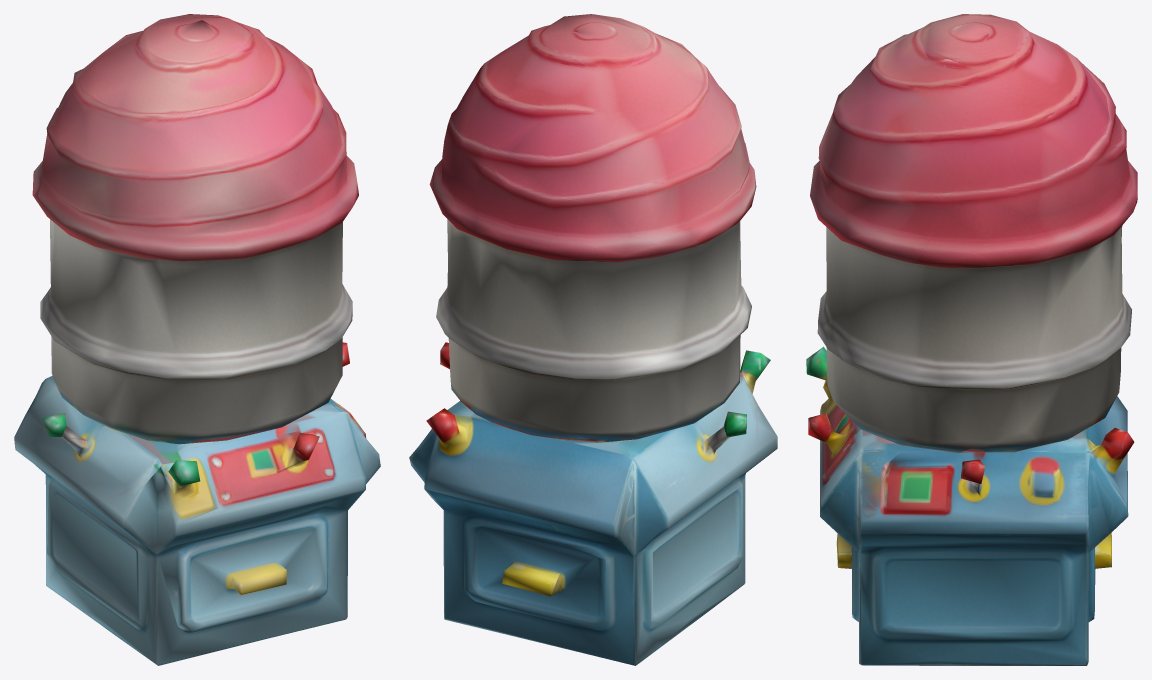
Rendered from Candy.fbx.
3 views of the same model, side by side, from view 1: azimuth 30°, elevation 25°; view 2: azimuth 150°, elevation 25°; view 3: azimuth 270°, elevation 25° (orthographic). The views are drawn at different scales.
Visible parts, largest first — view 1: material_0; view 2: material_0; view 3: material_0.
Boxes of the visible parts, box(x1,y1,x2,y2) form: material_0: box(14, 14, 380, 665); material_0: box(409, 14, 777, 665); material_0: box(806, 14, 1137, 665).
Bounding box in the file's own units: 55.27 × 100 × 50.95.
1 material, 1 textured.
